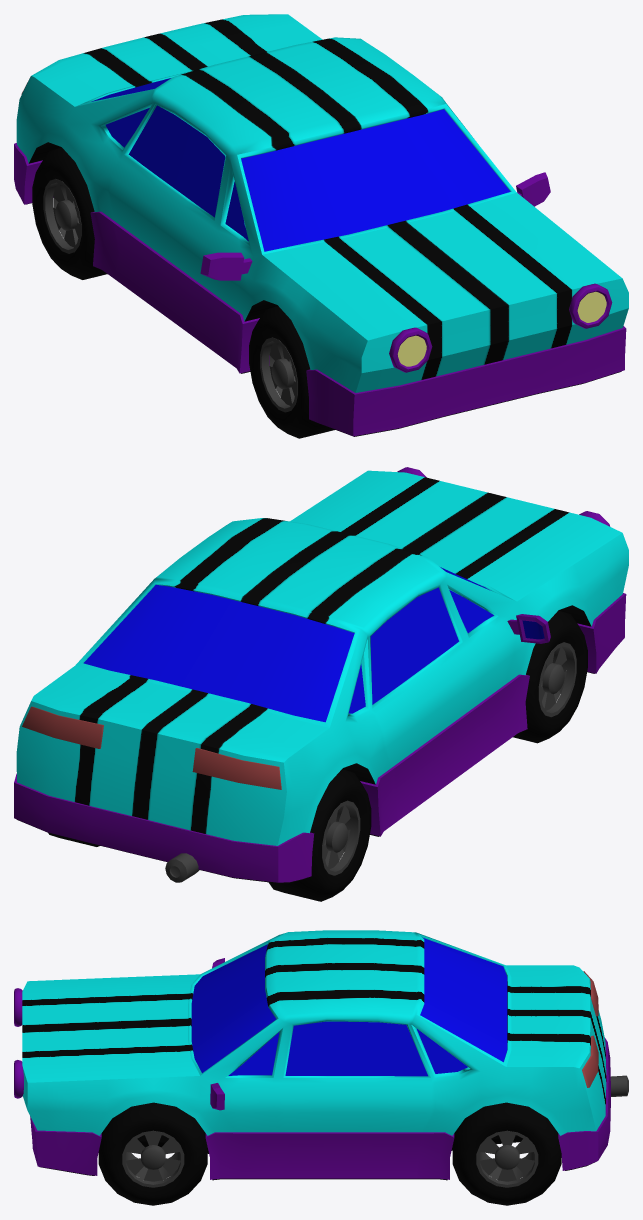
The model's file is Muscle Evolution1 Purple TrilineBlackCyan Blue DarkGrey.glb.
The picture shows the model from 3 angles, top to bottom: view 1: azimuth 30°, elevation 25°; view 2: azimuth 150°, elevation 25°; view 3: azimuth 270°, elevation 25°; orthographic projection. The views are drawn at different scales.
Visible parts, largest first — view 1: evo1_body4_f1_dupl, evo1_sill0_f1_dupl, evo1_frontGlass_f1_dupl, evo1_glasseBigR_f1_dupl, evo1_tire_rf_f1_dupl, evo1_tire_rf1_f1_dupl, evo1_rim_A_rb_f1_dupl, evo1_rim_A_rf_f1_dupl, evo1_mirorR3_f1_dupl, evo1_blockLightR_f1_dupl, evo1_blockLightL_f1_dupl, evo1_mirorL3_f1_dupl (+4 smaller); view 2: evo1_body4_f1_dupl, evo1_sill0_f1_dupl, evo1_BackGlassGlass_f1_dupl, evo1_glasseBigR_f1_dupl, evo1_tire_rf_f1_dupl, evo1_tire_rf1_f1_dupl, evo1_rim_A_rf_f1_dupl, evo1_rim_A_rb_f1_dupl, evo1_redlightR2_f1_dupl, evo1_redlightL2_f1_dupl, evo1_glassfR_f1_dupl, evo1_pipe1_f1_dupl (+1 smaller); view 3: evo1_body4_f1_dupl, evo1_sill0_f1_dupl, evo1_BackGlassGlass_f1_dupl, evo1_glasseBigL_f1_dupl, evo1_frontGlass_f1_dupl, evo1_tire_lb_f1_dupl, evo1_tire_lf_f1_dupl, evo1_rim_A_lf_f1_dupl, evo1_rim_A_lb_f1_dupl, evo1_glassfL_f1_dupl, evo1_glassbL_f1_dupl, evo1_GroundBody_f1_dupl (+1 smaller).
Part boxes in pixels (x1=…): evo1_body4_f1_dupl: x1=16, y1=14, x2=628, y2=392; evo1_sill0_f1_dupl: x1=14, y1=143, x2=626, y2=436; evo1_frontGlass_f1_dupl: x1=241, y1=109, x2=510, y2=251; evo1_glasseBigR_f1_dupl: x1=128, y1=105, x2=225, y2=217; evo1_tire_rf_f1_dupl: x1=32, y1=147, x2=107, y2=279; evo1_tire_rf1_f1_dupl: x1=249, y1=306, x2=334, y2=438; evo1_rim_A_rb_f1_dupl: x1=43, y1=179, x2=81, y2=253; evo1_rim_A_rf_f1_dupl: x1=260, y1=337, x2=297, y2=412; evo1_mirorR3_f1_dupl: x1=200, y1=252, x2=252, y2=280; evo1_blockLightR_f1_dupl: x1=389, y1=327, x2=432, y2=372; evo1_blockLightL_f1_dupl: x1=569, y1=283, x2=612, y2=328; evo1_mirorL3_f1_dupl: x1=516, y1=172, x2=550, y2=206; evo1_body4_f1_dupl: x1=16, y1=470, x2=628, y2=845; evo1_sill0_f1_dupl: x1=14, y1=593, x2=626, y2=882; evo1_BackGlassGlass_f1_dupl: x1=83, y1=584, x2=354, y2=722; evo1_glasseBigR_f1_dupl: x1=370, y1=587, x2=458, y2=704; evo1_tire_rf_f1_dupl: x1=268, y1=769, x2=371, y2=901; evo1_tire_rf1_f1_dupl: x1=513, y1=610, x2=587, y2=743; evo1_rim_A_rf_f1_dupl: x1=538, y1=642, x2=576, y2=717; evo1_rim_A_rb_f1_dupl: x1=322, y1=800, x2=360, y2=875; evo1_redlightR2_f1_dupl: x1=192, y1=748, x2=281, y2=789; evo1_redlightL2_f1_dupl: x1=22, y1=706, x2=103, y2=748; evo1_glassfR_f1_dupl: x1=449, y1=590, x2=493, y2=632; evo1_pipe1_f1_dupl: x1=165, y1=853, x2=199, y2=882; evo1_body4_f1_dupl: x1=22, y1=930, x2=606, y2=1152; evo1_sill0_f1_dupl: x1=30, y1=1037, x2=610, y2=1179; evo1_BackGlassGlass_f1_dupl: x1=420, y1=937, x2=507, y2=1061; evo1_glasseBigL_f1_dupl: x1=285, y1=1021, x2=427, y2=1076; evo1_frontGlass_f1_dupl: x1=191, y1=944, x2=276, y2=1073; evo1_tire_lb_f1_dupl: x1=452, y1=1102, x2=561, y2=1205; evo1_tire_lf_f1_dupl: x1=98, y1=1102, x2=207, y2=1205; evo1_rim_A_lf_f1_dupl: x1=122, y1=1130, x2=184, y2=1187; evo1_rim_A_lb_f1_dupl: x1=476, y1=1130, x2=538, y2=1187; evo1_glassfL_f1_dupl: x1=228, y1=1032, x2=279, y2=1075; evo1_glassbL_f1_dupl: x1=416, y1=1028, x2=467, y2=1073; evo1_GroundBody_f1_dupl: x1=40, y1=1140, x2=594, y2=1180.
Size of the model in its own units: 177 by 112 by 331.
Materials: 7 (1 with a texture image).
